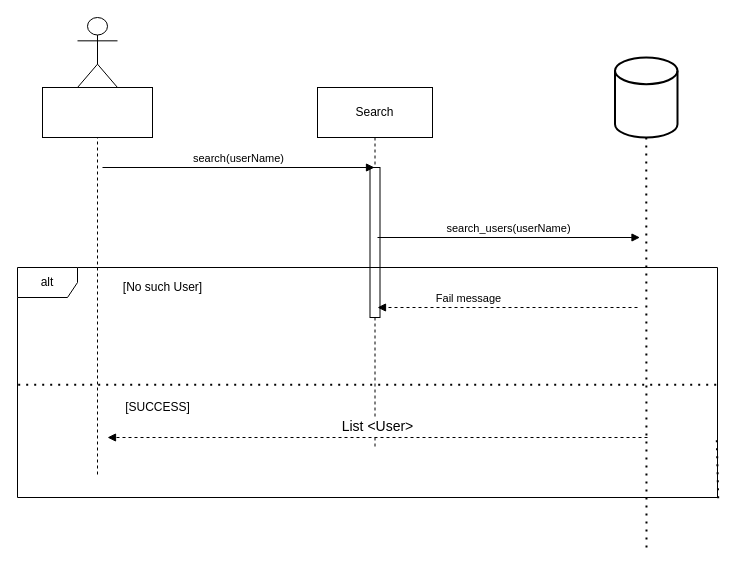
Image size: 738x567. Some labels were removed from this diagram. The shapes that lost their labels are listed below. From the top down, each one's centre as x and y in pixels, then its label:
At [97,112]: "Guest/ Registered User/ Admin".
At [646,97]: "User DB".
